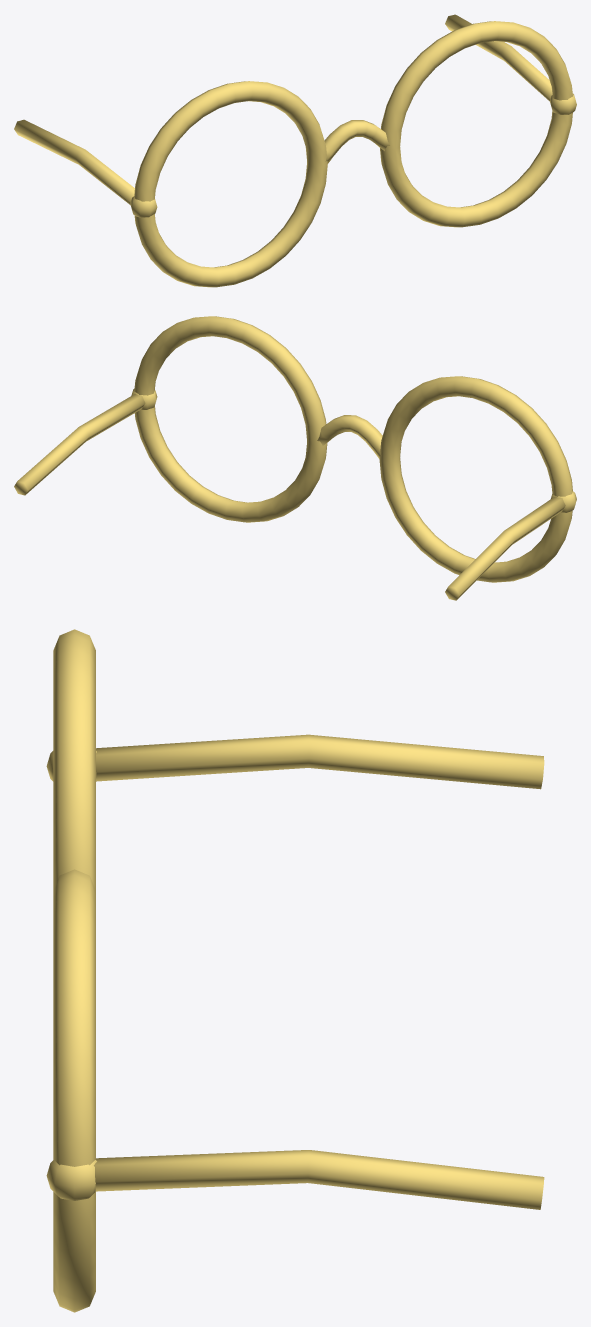
Rendered from Acc_RoundGlasses.fbx.
The picture shows the model from 3 angles, top to bottom: view 1: azimuth 30°, elevation 25°; view 2: azimuth 150°, elevation 25°; view 3: azimuth 270°, elevation 25°; orthographic projection. The views are drawn at different scales.
Parts seen in each view (by area): view 1: Acc_RoundGlasses; view 2: Acc_RoundGlasses; view 3: Acc_RoundGlasses.
Part boxes in pixels (box(x1,y1,x2,y2)): Acc_RoundGlasses: box(14, 14, 576, 287); Acc_RoundGlasses: box(14, 316, 576, 600); Acc_RoundGlasses: box(46, 629, 544, 1312).
Bounding box in the file's own units: 0.154 × 0.0664 × 0.0745.
